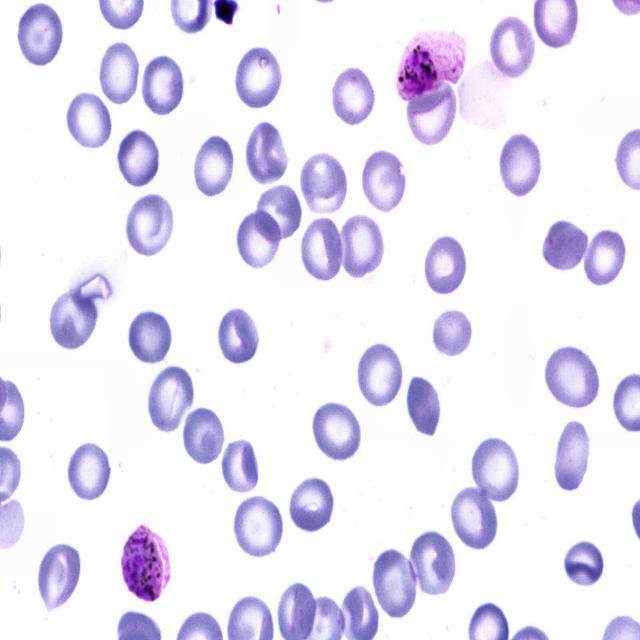red blood cell: (541, 343, 602, 410), (370, 544, 420, 620), (470, 432, 522, 504), (232, 41, 284, 111), (448, 485, 502, 552), (310, 399, 364, 464), (409, 528, 459, 598), (406, 79, 459, 144), (552, 414, 592, 499), (300, 150, 348, 220), (48, 284, 98, 351), (336, 212, 385, 280), (232, 494, 284, 558), (147, 364, 194, 434), (124, 193, 176, 256), (15, 3, 65, 68), (35, 540, 80, 612), (356, 342, 406, 406), (500, 130, 546, 199), (361, 148, 408, 211), (489, 17, 535, 80), (65, 442, 114, 501), (64, 91, 113, 150), (300, 218, 345, 282), (244, 122, 291, 183), (235, 208, 282, 269), (216, 304, 262, 366), (290, 474, 336, 536), (98, 42, 142, 106), (182, 404, 228, 465), (115, 130, 163, 188), (251, 188, 299, 246), (423, 236, 469, 296), (542, 217, 591, 271), (194, 136, 236, 198), (143, 55, 185, 117), (127, 310, 174, 364), (582, 231, 628, 286), (406, 370, 444, 436), (332, 69, 376, 125), (220, 437, 259, 494), (563, 538, 605, 586), (432, 309, 474, 357)
schizont: (396, 26, 470, 106)
trophozoite: (121, 524, 170, 602)
